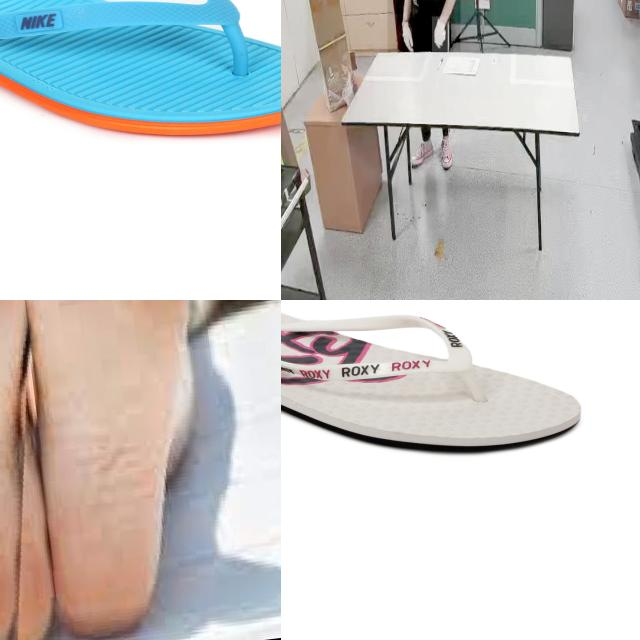Barefoots: (29, 300, 208, 640)
Sandals: (281, 300, 584, 458), (0, 0, 281, 139)
hand_glove: (397, 17, 418, 53), (432, 16, 450, 54)
person: (387, 0, 460, 52)
shoes: (410, 134, 434, 174), (438, 134, 454, 170)
